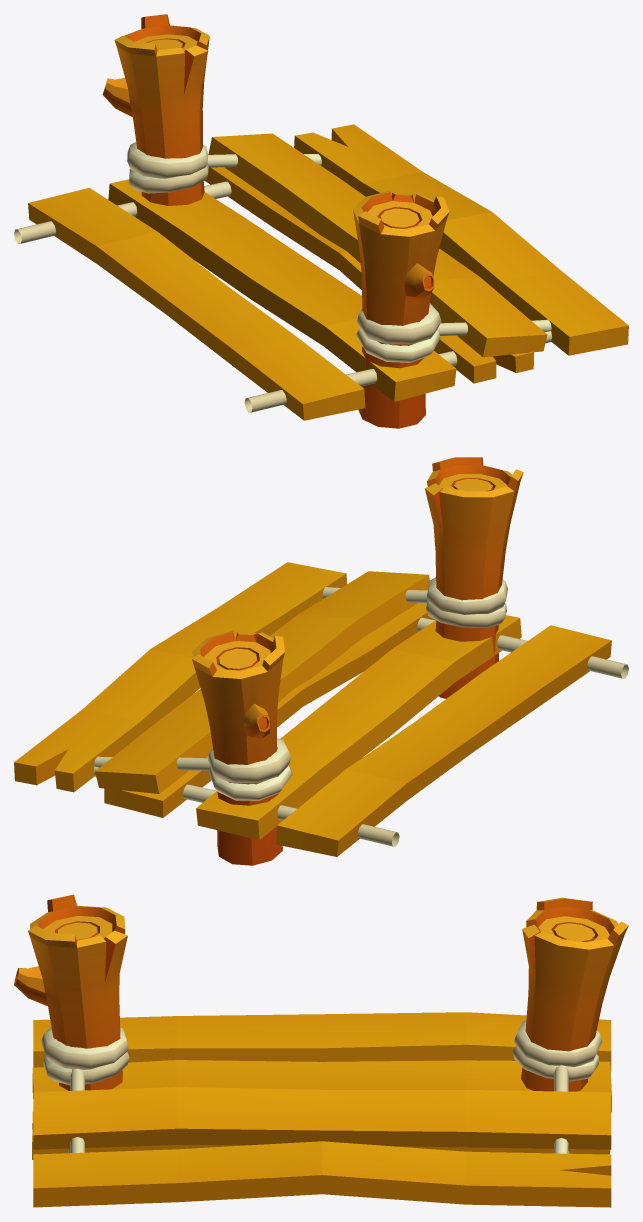
Rendered from obj_BridgeParts.fbx.
3 views of the same model, one above another, from view 1: azimuth 30°, elevation 25°; view 2: azimuth 150°, elevation 25°; view 3: azimuth 270°, elevation 25° (orthographic). The views are drawn at different scales.
Visible parts, largest first — view 1: obj_Bridge, obj_BridgeCenter_LOD0; view 2: obj_Bridge, obj_BridgeCenter_LOD0; view 3: obj_Bridge, obj_BridgeCenter_LOD0.
Part boxes in pixels (bbox=[...]): obj_Bridge: bbox=[102, 14, 628, 428]; obj_BridgeCenter_LOD0: bbox=[14, 167, 552, 420]; obj_Bridge: bbox=[14, 457, 523, 865]; obj_BridgeCenter_LOD0: bbox=[93, 603, 628, 856]; obj_Bridge: bbox=[14, 894, 628, 1207]; obj_BridgeCenter_LOD0: bbox=[32, 1012, 611, 1159].
Size of what is drawn, in the model's own units: 606 by 355 by 851.
